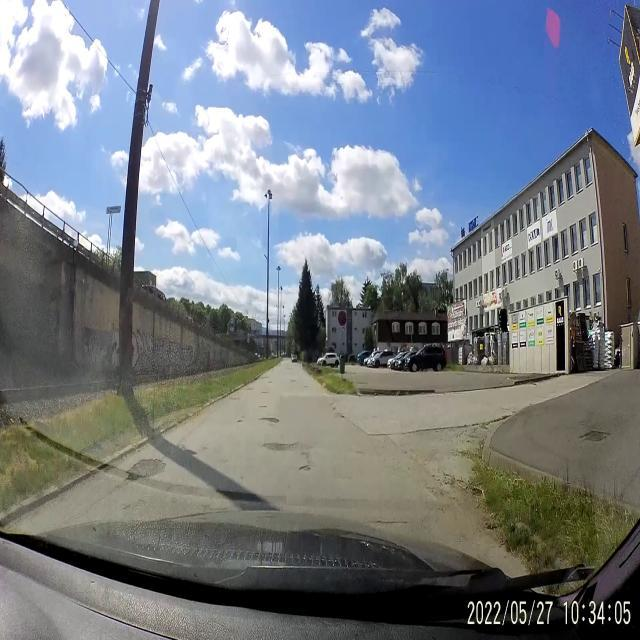Pothole: (125, 452, 166, 486), (262, 436, 302, 456), (258, 412, 280, 428), (297, 461, 313, 476), (259, 388, 271, 402), (256, 401, 268, 411)
